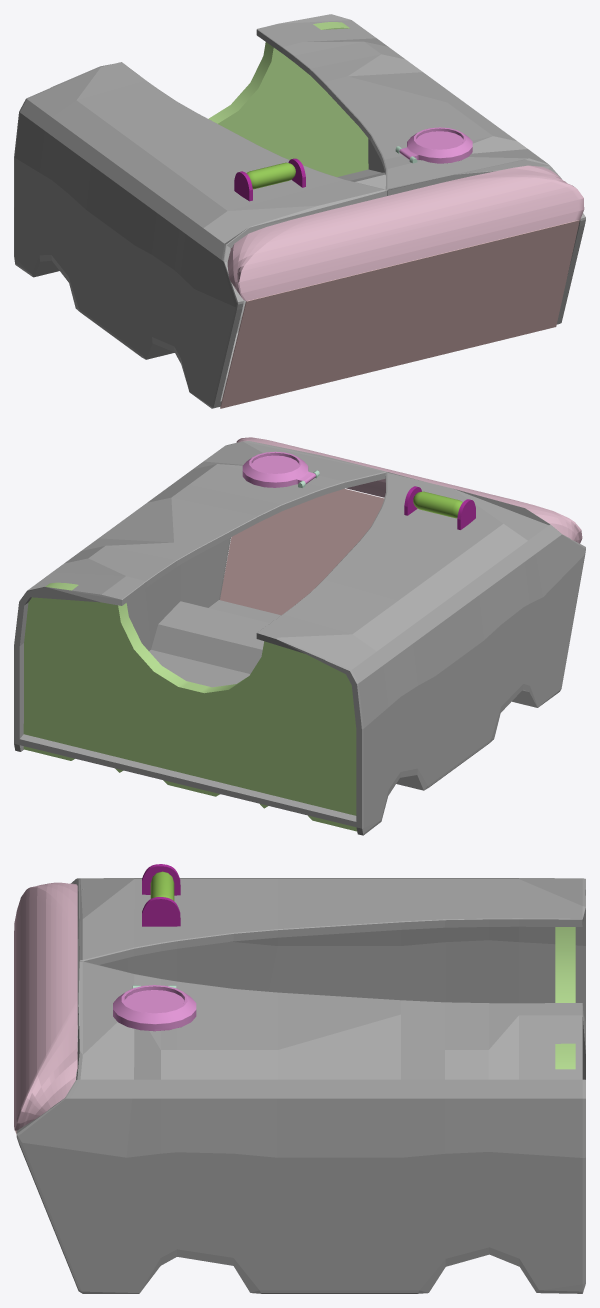
Rendered from CarLP.fbx.
3 views of the same model, one above another, from view 1: azimuth 30°, elevation 25°; view 2: azimuth 150°, elevation 25°; view 3: azimuth 270°, elevation 25° (orthographic). The views are drawn at different scales.
Parts seen in each view (by area): view 1: car:Box03, car:Line02, car:Line06, car:Line07, car:Cylinder09, car:Capsule01; view 2: car:Box03, car:Line07, car:Line02, car:Line06, car:Cylinder09, car:Capsule01; view 3: car:Box03, car:Line06, car:Cylinder09, car:Line07, car:Line12, car:Line11, car:Capsule01.
Part boxes in pixels (x1,y1,x2,y2): car:Box03: (14, 14, 585, 408); car:Line02: (220, 220, 579, 408); car:Line06: (227, 165, 584, 300); car:Line07: (208, 22, 368, 176); car:Cylinder09: (399, 127, 472, 163); car:Capsule01: (246, 162, 295, 189); car:Box03: (14, 441, 585, 835); car:Line07: (23, 582, 357, 831); car:Line02: (220, 488, 384, 615); car:Line06: (236, 437, 582, 543); car:Cylinder09: (242, 451, 315, 487); car:Capsule01: (413, 491, 462, 518); car:Box03: (16, 878, 585, 1293); car:Line06: (14, 882, 77, 1130); car:Cylinder09: (113, 985, 196, 1031); car:Line07: (555, 927, 575, 1069); car:Line12: (142, 897, 180, 926); car:Line11: (142, 864, 180, 895); car:Capsule01: (150, 871, 174, 900).
Bounding box in the file's own units: 50.4 × 27.37 × 56.23.
